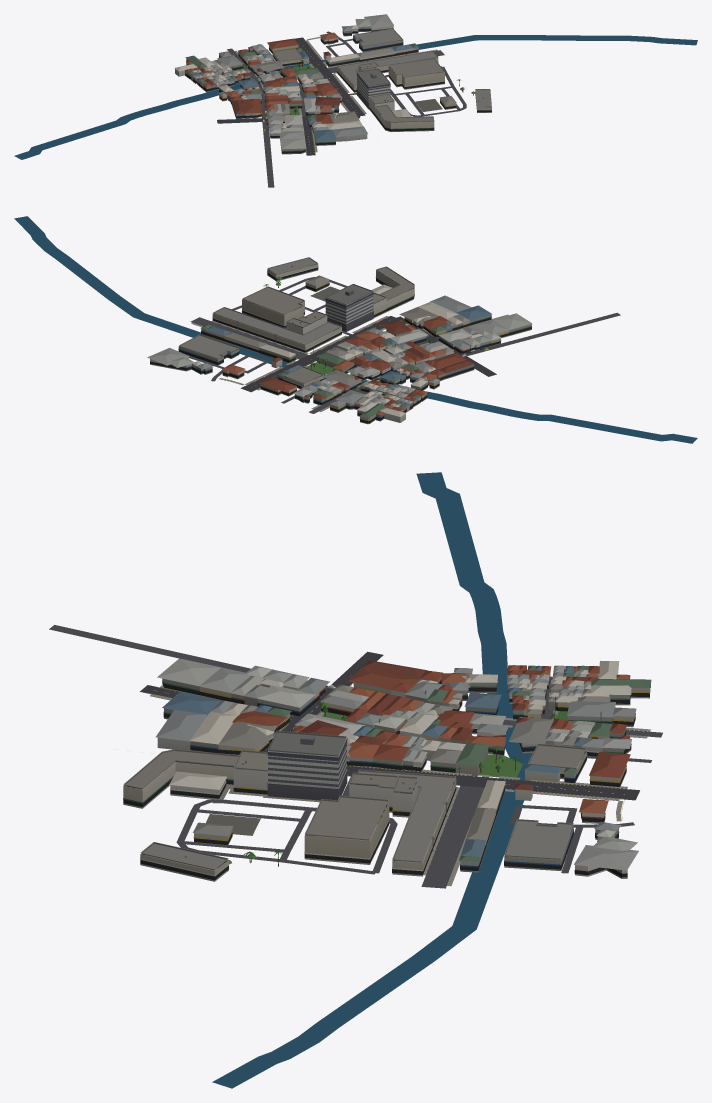
3 views of the same model, one above another, from view 1: azimuth 30°, elevation 25°; view 2: azimuth 150°, elevation 25°; view 3: azimuth 270°, elevation 25° (orthographic). The views are drawn at different scales.
Visible parts, largest first — view 1: Buildings__r-17c-3-col, Water__r-17c-3, Windows__r-17c-3, Roads_Minor__r-17c-3, Roads_Major__r-17c-3, Education Building-col, College of Technology Building-col, Administration Building-col, Commission on Audit-col, Sidewalks__r-17c-3-col, Landuse__r-17c-3, Science & Technology Building-col; view 2: Buildings__r-17c-3-col, Water__r-17c-3, Windows__r-17c-3, College of Technology Building-col, Roads_Minor__r-17c-3, Administration Building-col, Roads_Major__r-17c-3, Commission on Audit-col, Education Building-col, Sidewalks__r-17c-3-col, Science & Technology Building-col, Landuse__r-17c-3; view 3: Buildings__r-17c-3-col, Water__r-17c-3, Roads_Minor__r-17c-3, Windows__r-17c-3, Administration Building-col, College of Technology Building-col, Roads_Major__r-17c-3, Education Building-col, Commission on Audit-col, Science & Technology Building-col, Sidewalks__r-17c-3-col, Landuse__r-17c-3 (+1 smaller).
Part boxes in pixels (x1,y1,x2,y2): Buildings__r-17c-3-col: (174,14,456,154); Water__r-17c-3: (14,35,697,159); Windows__r-17c-3: (184,28,456,153); Roads_Minor__r-17c-3: (196,31,466,187); Roads_Major__r-17c-3: (217,37,365,155); Education Building-col: (374,104,434,131); College of Technology Building-col: (337,51,438,92); Administration Building-col: (356,68,390,109); Commission on Audit-col: (353,28,403,52); Sidewalks__r-17c-3-col: (228,36,437,152); Landuse__r-17c-3: (232,65,442,116); Science & Technology Building-col: (475,89,491,112); Buildings__r-17c-3-col: (147,275,532,424); Water__r-17c-3: (14,216,697,443); Windows__r-17c-3: (150,282,531,423); College of Technology Building-col: (212,307,342,352); Roads_Minor__r-17c-3: (189,277,620,413); Administration Building-col: (325,284,373,331); Roads_Major__r-17c-3: (240,316,496,392); Commission on Audit-col: (178,334,239,365); Education Building-col: (375,266,414,311); Sidewalks__r-17c-3-col: (191,314,508,411); Science & Technology Building-col: (267,257,318,281); Landuse__r-17c-3: (306,286,429,374); Buildings__r-17c-3-col: (155,658,651,878); Water__r-17c-3: (212,472,532,1088); Roads_Minor__r-17c-3: (49,625,662,888); Windows__r-17c-3: (162,673,650,877); Administration Building-col: (267,730,347,800); College of Technology Building-col: (357,769,456,876); Roads_Major__r-17c-3: (140,651,639,800); Education Building-col: (123,749,240,808); Commission on Audit-col: (504,819,573,870); Science & Technology Building-col: (140,842,229,881); Sidewalks__r-17c-3-col: (150,685,650,886); Landuse__r-17c-3: (206,711,567,835).
Size of the model in its own units: 803 by 32.2 by 338.
